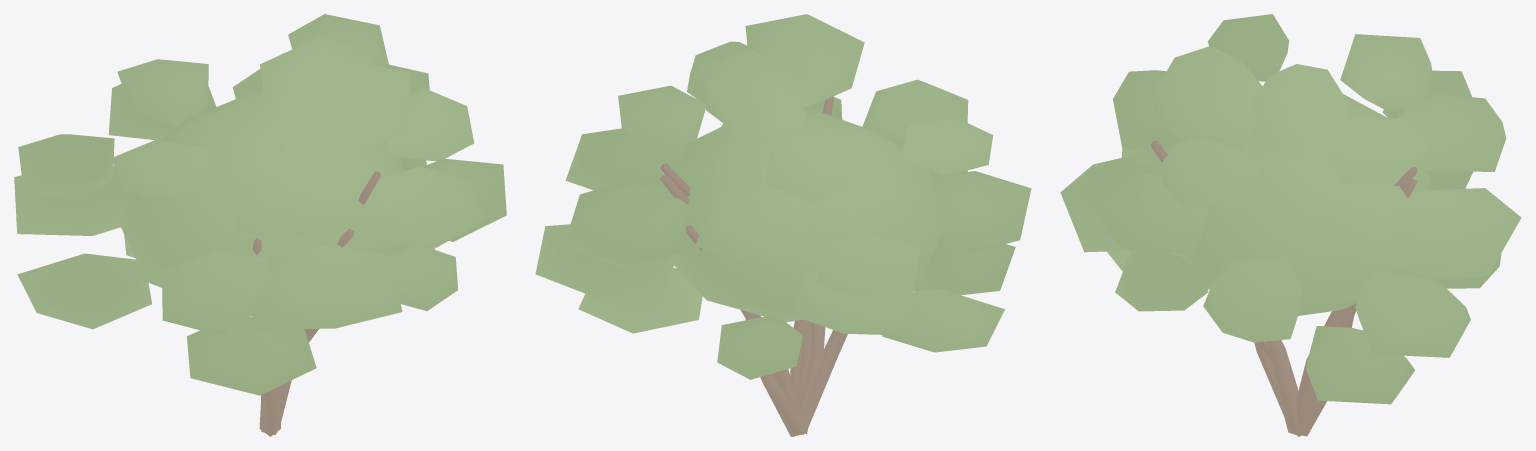
The model's file is Blender_Huckleberry_2.glb.
3 renders of one model, left to right at view 1: azimuth 30°, elevation 25°; view 2: azimuth 150°, elevation 25°; view 3: azimuth 270°, elevation 25°, orthographic. The views are drawn at different scales.
Visible parts, largest first — view 1: Blender_Huckleberry_2; view 2: Blender_Huckleberry_2; view 3: Blender_Huckleberry_2.
Part boxes in pixels (bbox=[...]): Blender_Huckleberry_2: bbox=[14, 14, 506, 436]; Blender_Huckleberry_2: bbox=[535, 14, 1031, 436]; Blender_Huckleberry_2: bbox=[1060, 14, 1521, 436].
Bounding box in the file's own units: 1.4 × 1.24 × 1.28.
